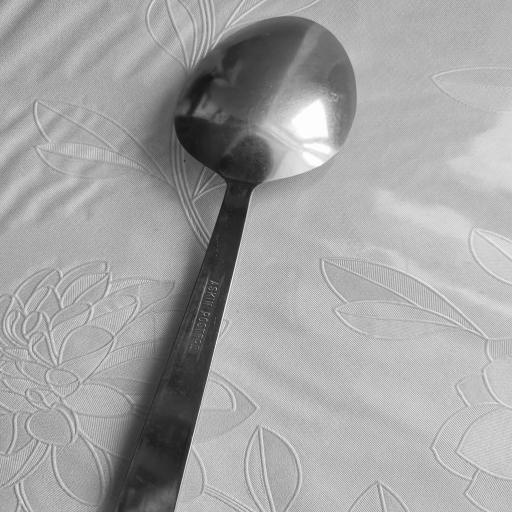spoon: (117, 16, 354, 512)
